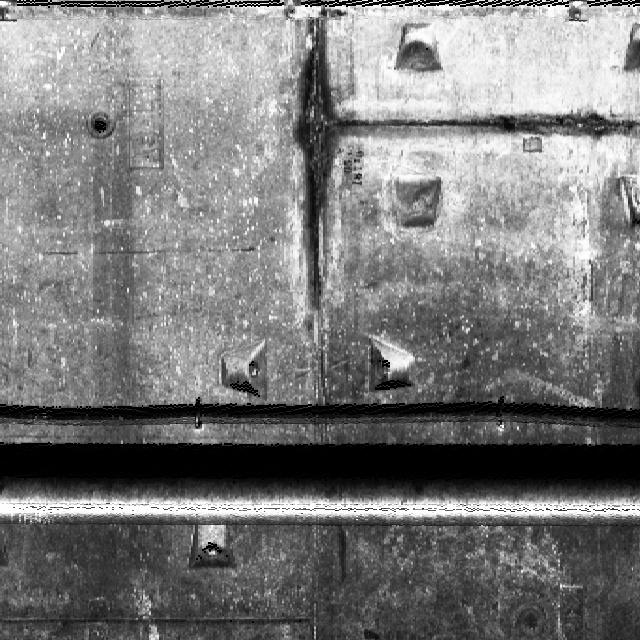leakage: (277, 2, 360, 335), (361, 108, 639, 149)
